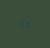three: (19, 19, 23, 27)
zero: (24, 19, 28, 28)
